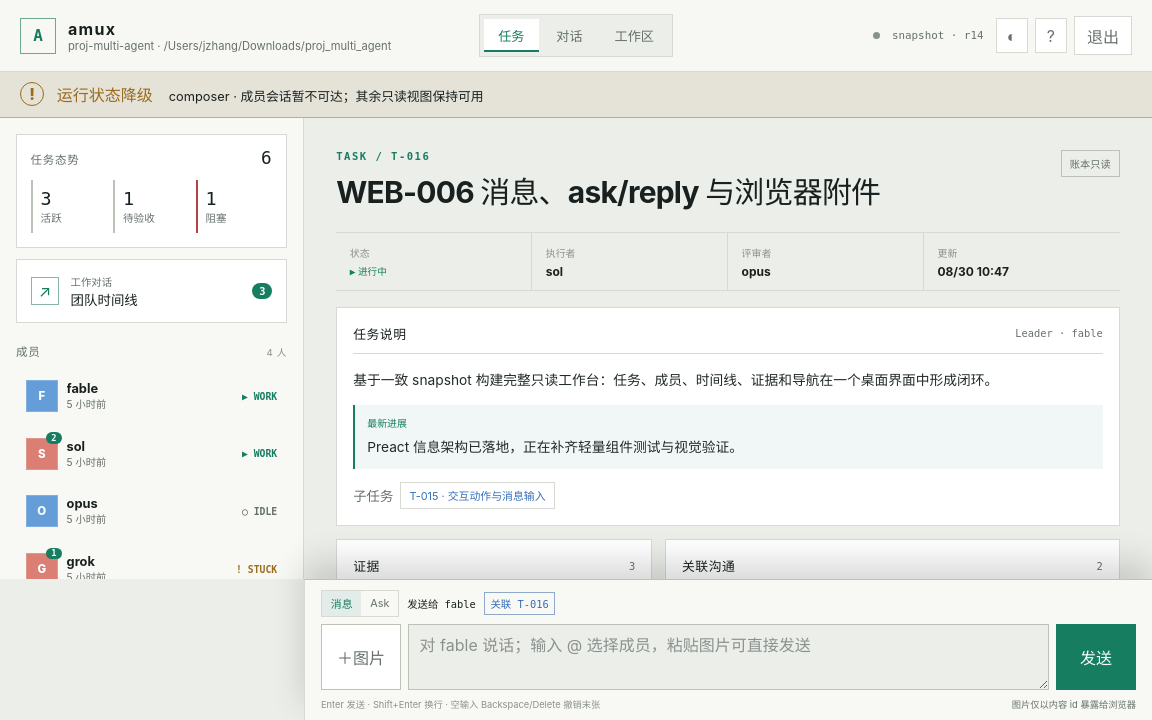
snapshot console › navigates to timeline, filters categories, and clears client-local unread
Check: the text with class "unread-badge" reads "3", box [259,285,266,297]
Step 1. Click the button with class "conversation-card" → {"x": 91, "y": 282}, box [16,259,287,323]
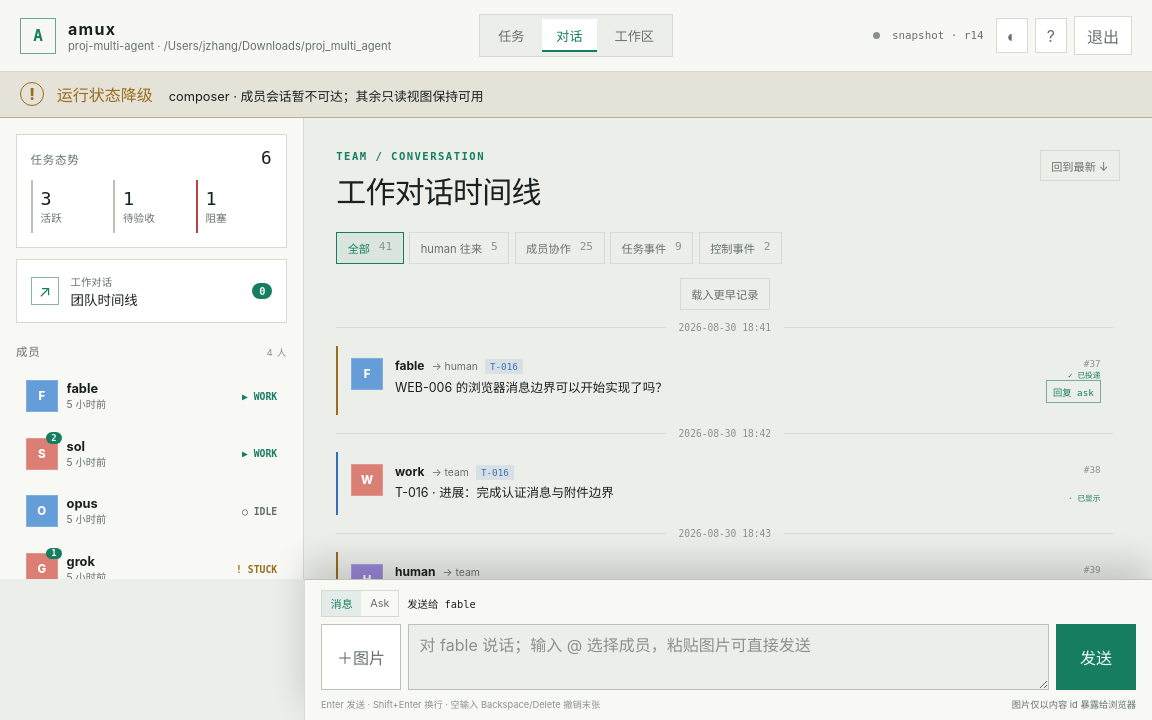
Check: the heading "工作对话时间线" is shown, box [336,168,541,212]
Check: the text with class "unread-badge" reads "0", box [259,285,266,297]
Step 2. Click the button "回复 ask" → {"x": 1073, "y": 392}, box [1046,380,1101,403]
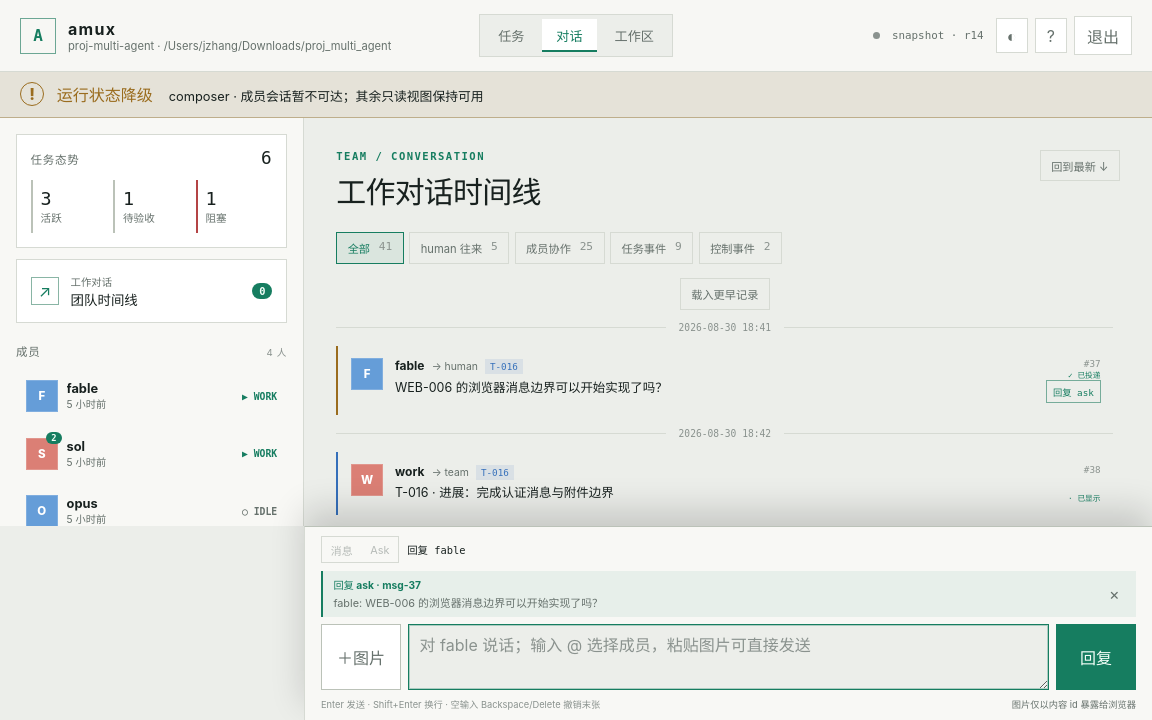
Check: the text "回复 ask · msg-37" is shown, box [333,579,421,591]
Step 3. Click the button "控制事件 2" → {"x": 740, "y": 248}, box [699,232,782,264]
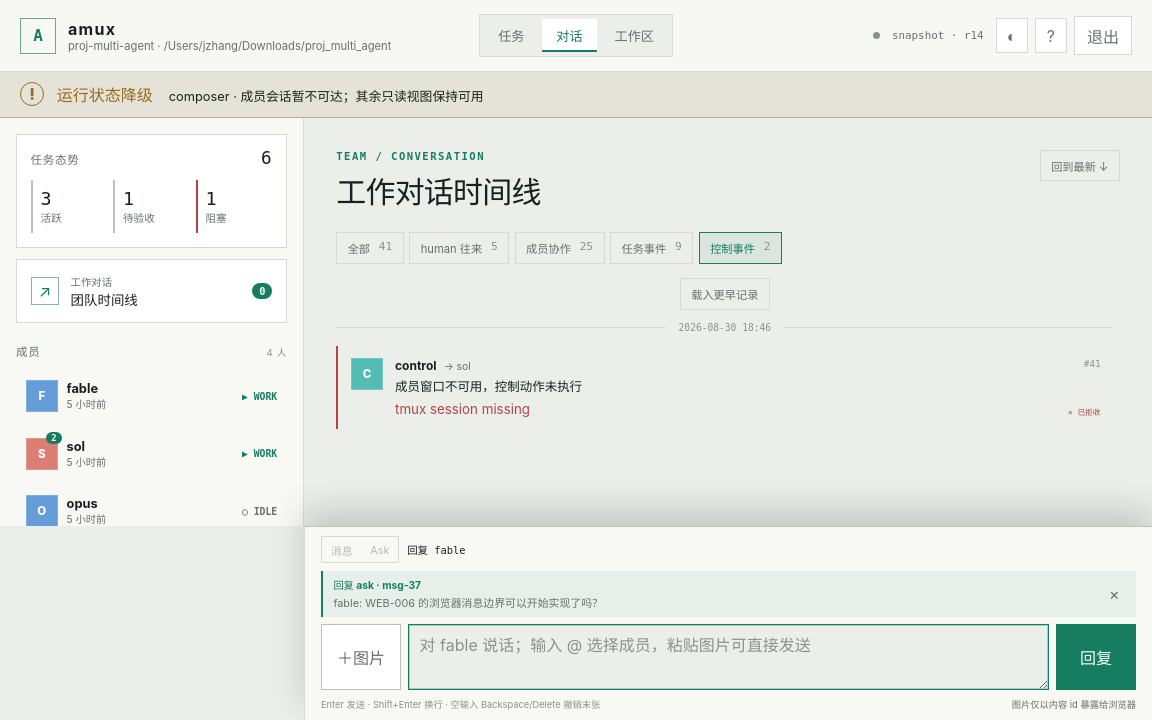
Check: the number of elements with class "timeline-entry" is 1, box [336,346,1113,429]
Check: the text "tmux session missing" is shown, box [395,401,530,417]
